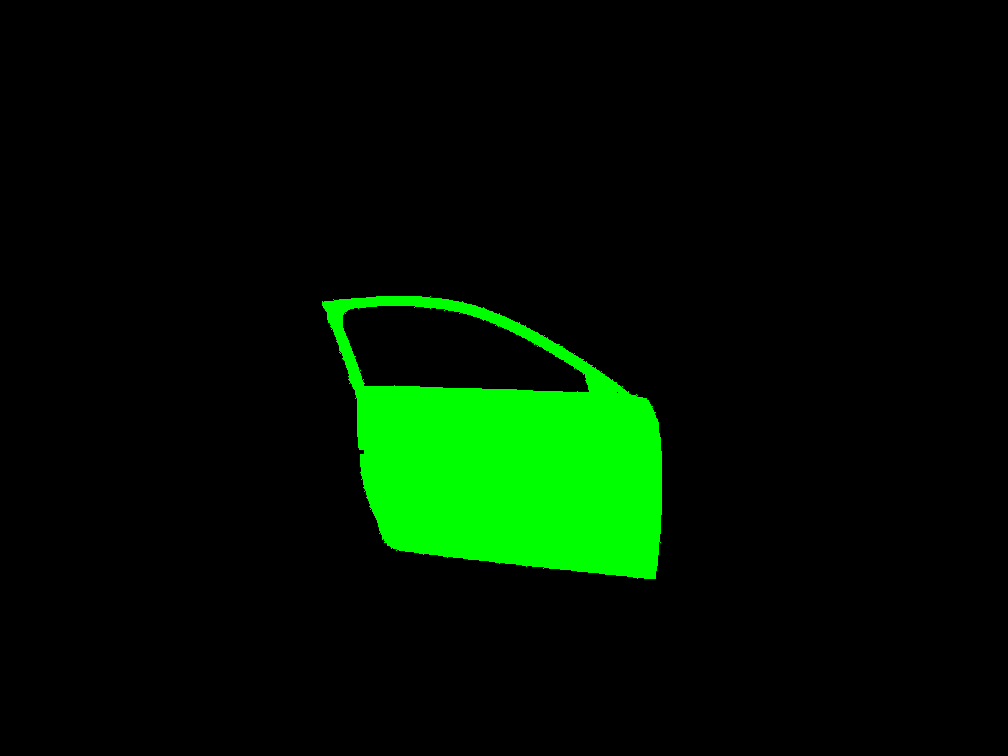car_door: (322, 296, 661, 578)
